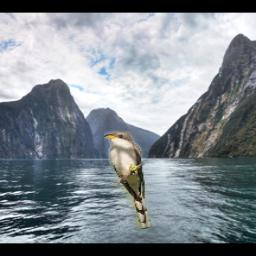Cuckoo: (103, 132, 152, 230)
